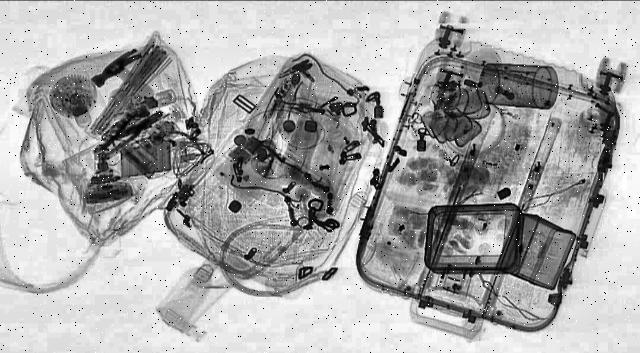Pliers: (80, 102, 168, 154)
